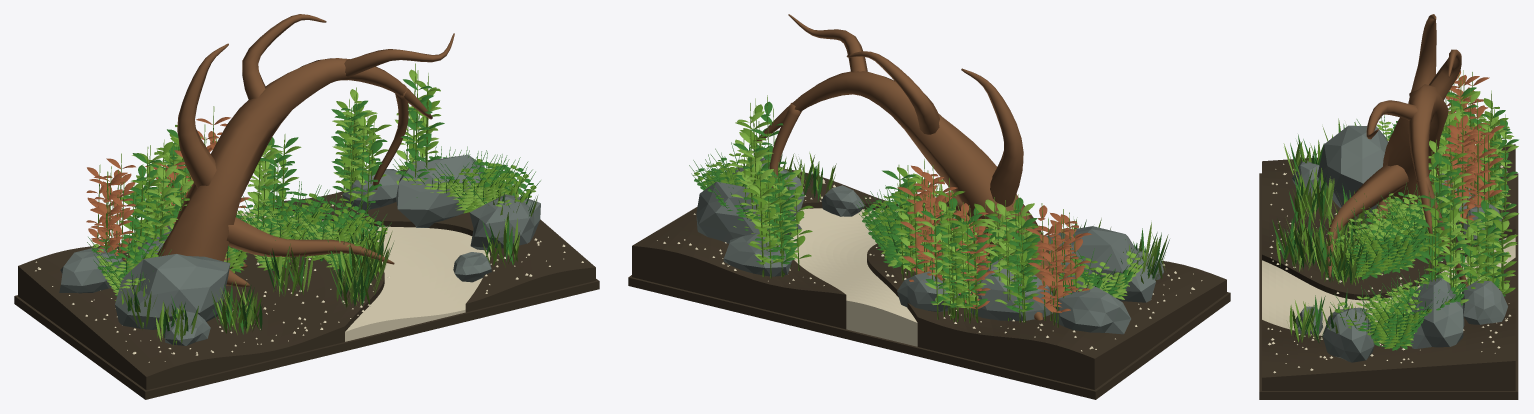
Rendered from hardscape.glb.
3 views of the same model, side by side, from view 1: azimuth 30°, elevation 25°; view 2: azimuth 150°, elevation 25°; view 3: azimuth 270°, elevation 25° (orthographic). The views are drawn at different scales.
Parts seen in each view (by area): view 1: hardscape.wood.arch, bed.left, bed.path, bed.right, hardscape.stone.00, bed.foundation, hardscape.stone.04, plants.stem.015, plants.stem.049, hardscape.stone.05, plants.stem.021, plants.stem.027 (+34 smaller); view 2: bed.left, hardscape.wood.arch, bed.right, bed.path, bed.foundation, plants.stem.015, hardscape.stone.00, plants.stem.039, plants.stem.022, hardscape.stone.04, hardscape.stone.02, plants.stem.020 (+17 smaller); view 3: bed.right, hardscape.wood.arch, bed.left, bed.foundation, bed.path, hardscape.stone.00, plants.stem.020, plants.stem.027, hardscape.stone.04, hardscape.stone.05, plants.stem.039, plants.stem.016 (+46 smaller).
Part boxes in pixels (<box>): hardscape.wood.arch: <box>157,14,454,286</box>; bed.left: <box>18,230,384,390</box>; bed.path: <box>237,211,490,341</box>; bed.right: <box>264,169,595,312</box>; hardscape.stone.00: <box>115,254,230,329</box>; bed.foundation: <box>14,279,599,399</box>; hardscape.stone.04: <box>396,154,484,227</box>; plants.stem.015: <box>86,153,135,259</box>; plants.stem.049: <box>331,105,391,213</box>; hardscape.stone.05: <box>469,194,540,250</box>; plants.stem.021: <box>246,134,301,231</box>; plants.stem.027: <box>395,63,444,197</box>; bed.left: <box>867,243,1226,389</box>; hardscape.wood.arch: <box>757,14,1070,320</box>; bed.right: <box>632,169,898,329</box>; bed.path: <box>790,208,917,346</box>; bed.foundation: <box>628,275,1230,399</box>; plants.stem.015: <box>1025,203,1091,327</box>; hardscape.stone.00: <box>1046,226,1155,302</box>; plants.stem.039: <box>743,162,797,278</box>; plants.stem.022: <box>938,210,988,323</box>; hardscape.stone.04: <box>696,181,801,243</box>; hardscape.stone.02: <box>1053,285,1130,334</box>; plants.stem.020: <box>897,159,957,288</box>; bed.right: <box>1262,257,1515,390</box>; hardscape.wood.arch: <box>1327,14,1468,287</box>; bed.left: <box>1262,144,1515,300</box>; bed.foundation: <box>1259,173,1518,399</box>; bed.path: <box>1262,234,1515,335</box>; hardscape.stone.00: <box>1317,125,1388,216</box>; plants.stem.020: <box>1442,100,1504,233</box>; plants.stem.027: <box>1413,181,1471,305</box>; hardscape.stone.04: <box>1406,277,1464,348</box>; hardscape.stone.05: <box>1322,307,1374,362</box>; plants.stem.039: <box>1471,199,1518,294</box>; plants.stem.016: <box>1479,90,1518,220</box>.
Size of the model in its own units: 0.588 by 0.3121 by 0.2955.
